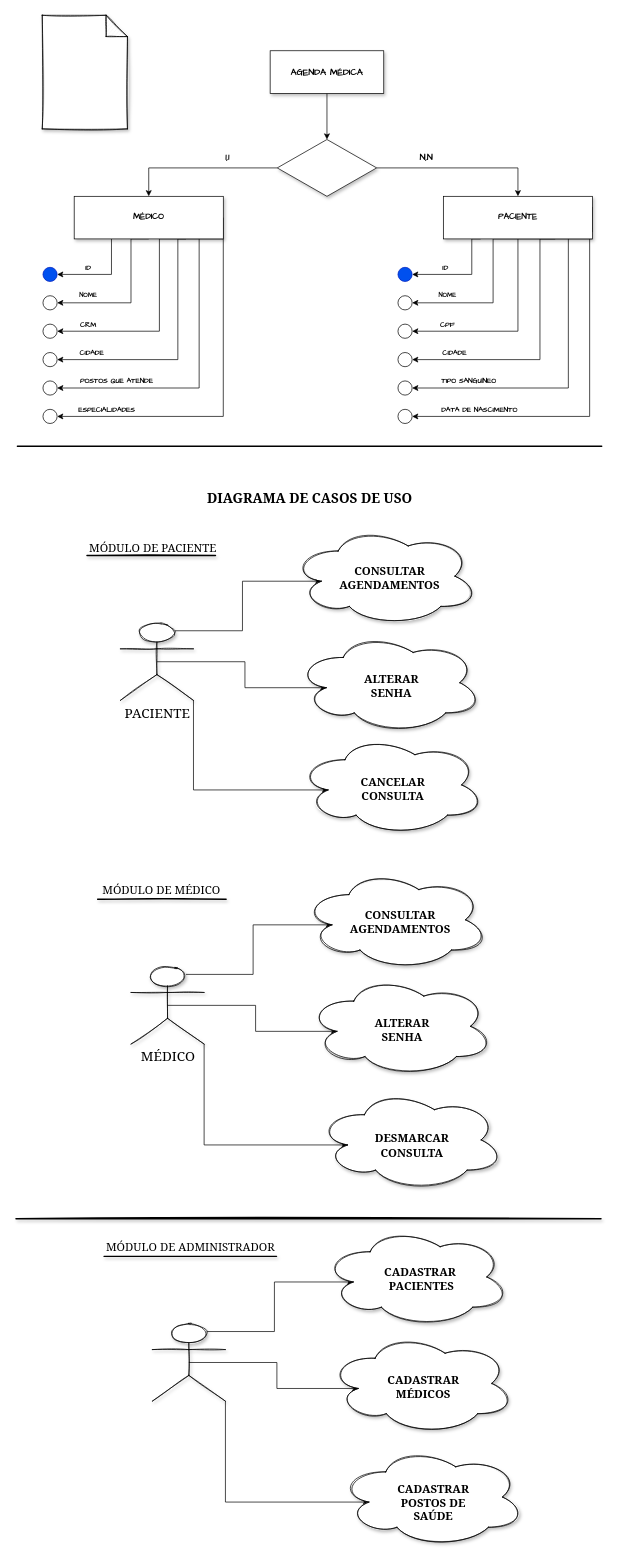
Some shapes in this 618 by 1565 pixel diagram are drawn without their labels. Here are the shapes that lost their labels. From the top down, the centre of each, then its label:
At (x=85, y=73): "NOME DO BANCO DE DADOS: BDMEDIQUE".
At (x=327, y=168): "Relação".
At (x=189, y=1363): "ADM".
